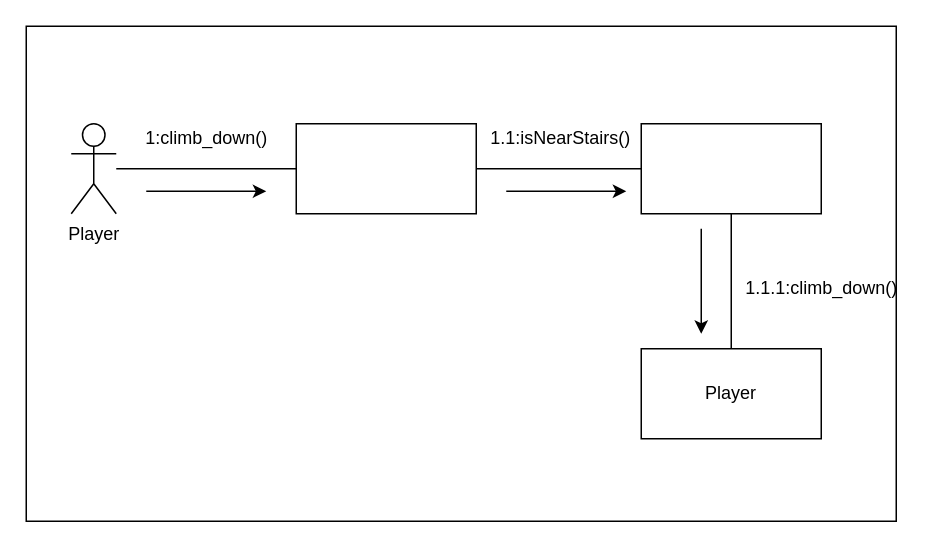
This 938x548 diagram has some shape labels left out. Here are the shapes that lost their labels. From the top down, the box of each, then its label:
(295, 122, 476, 214): :Game
(640, 122, 821, 214): :Level
